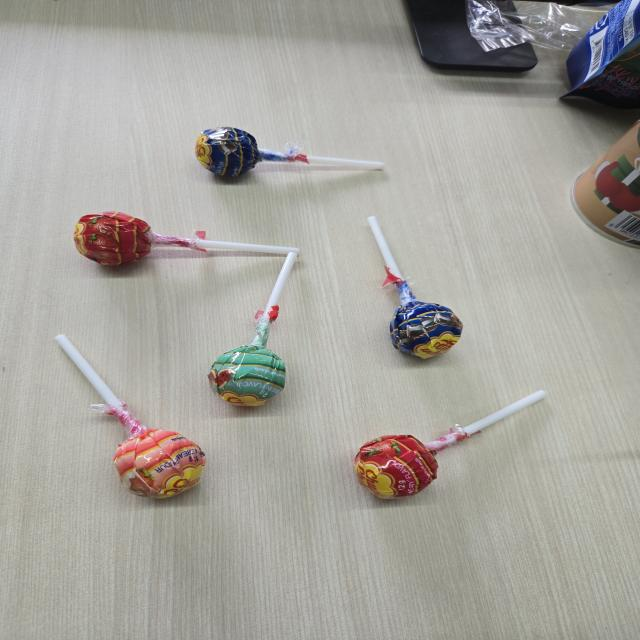lollipop: (53, 329, 210, 503), (352, 386, 548, 505), (207, 250, 300, 412), (367, 216, 468, 364), (73, 210, 306, 268), (197, 124, 390, 186)
